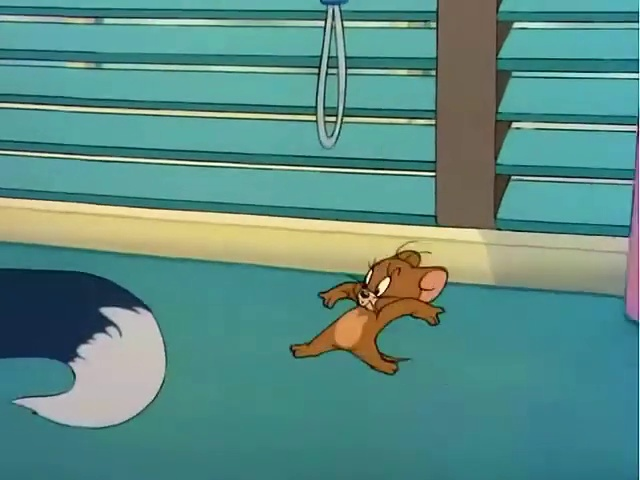jerry: (262, 229, 462, 377)
